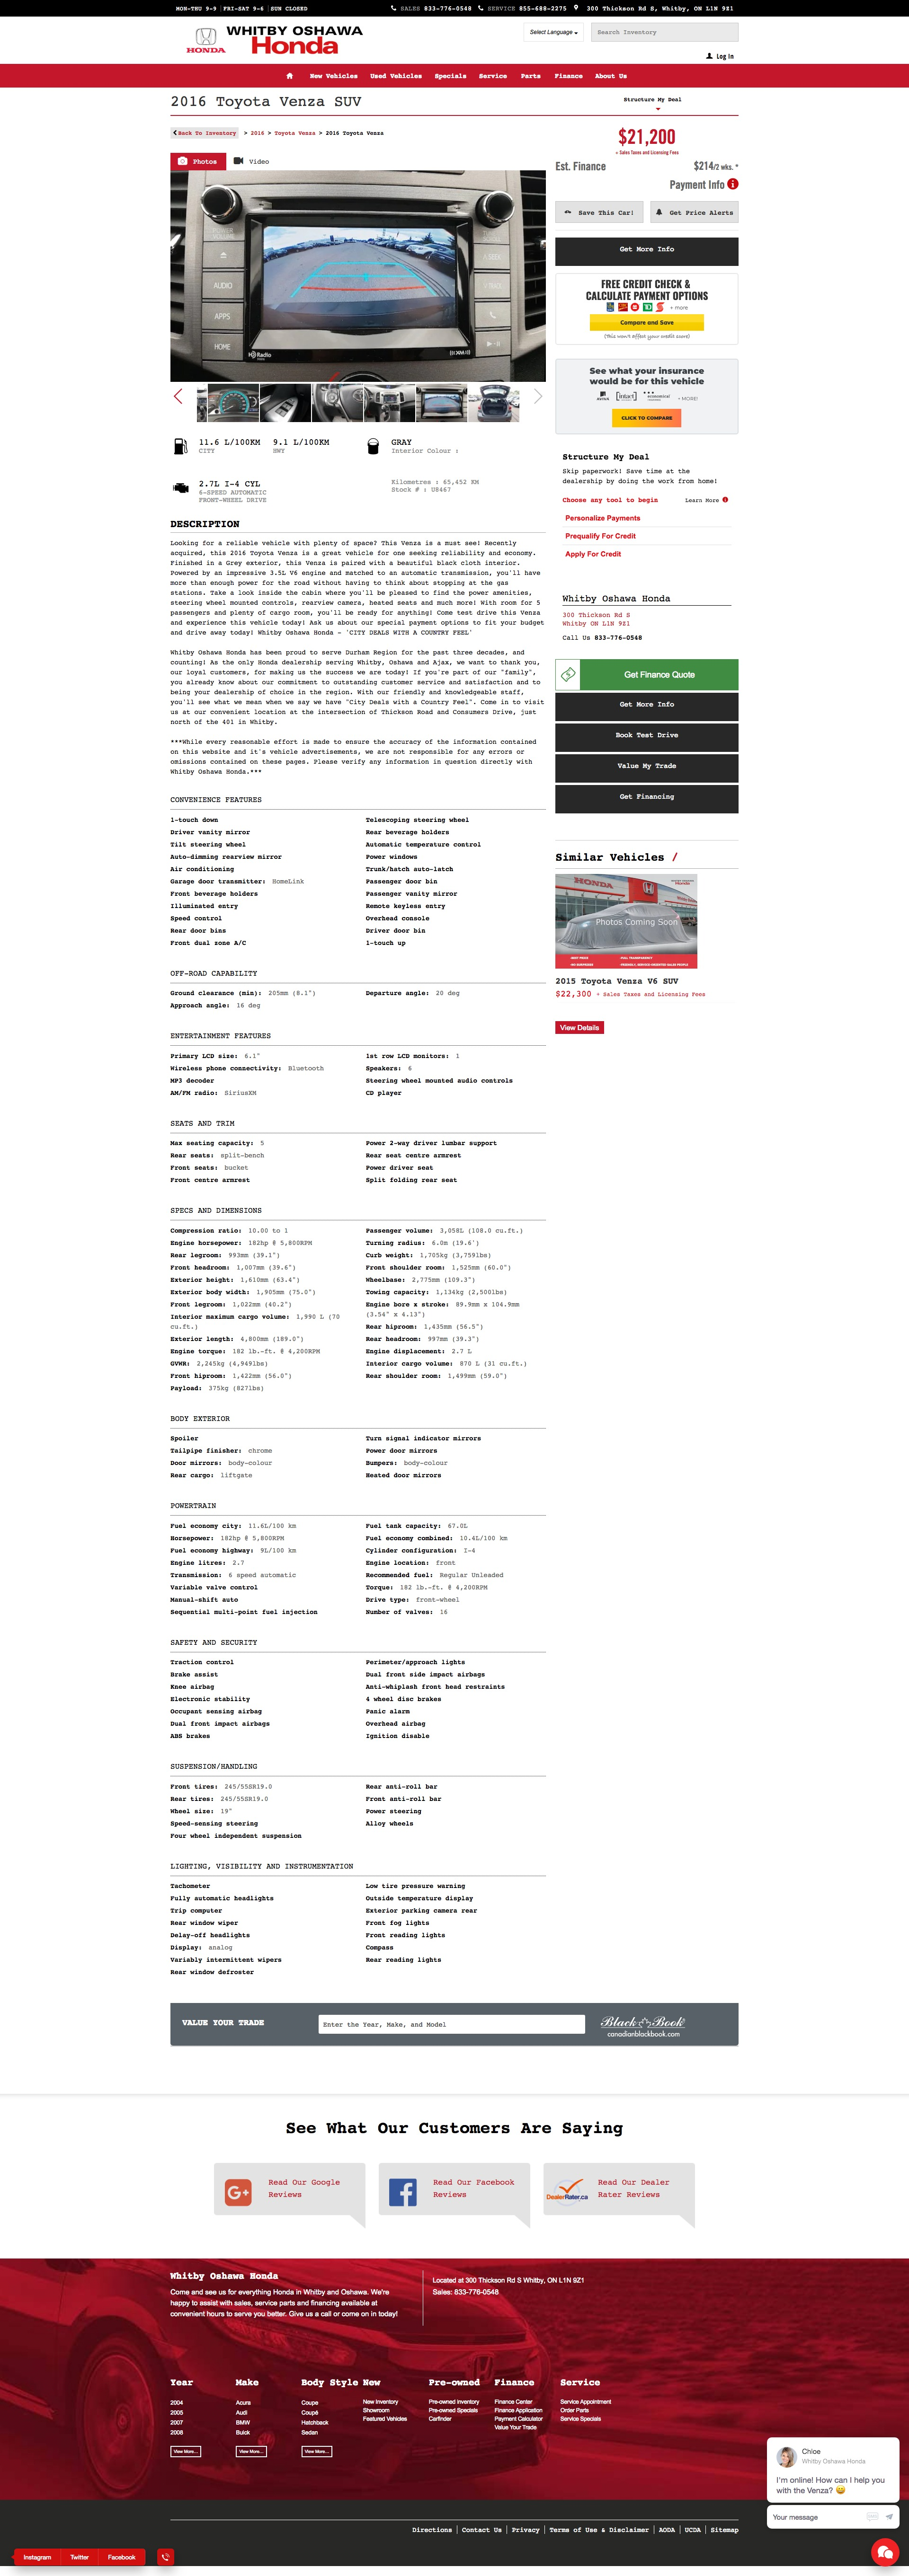car: (534, 388, 542, 404)
